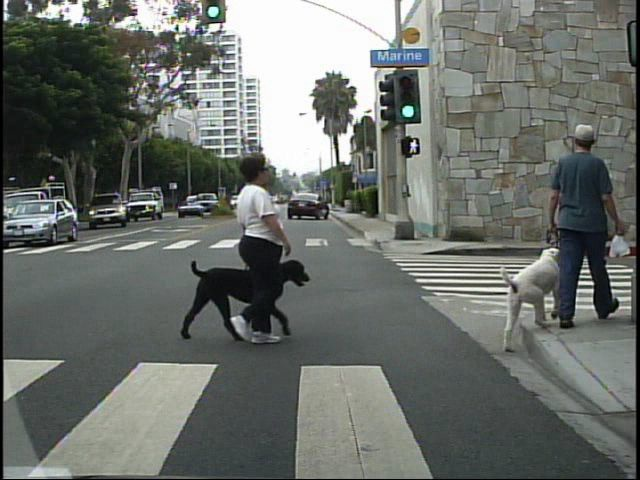person: (550, 111, 634, 340), (215, 147, 300, 351)
